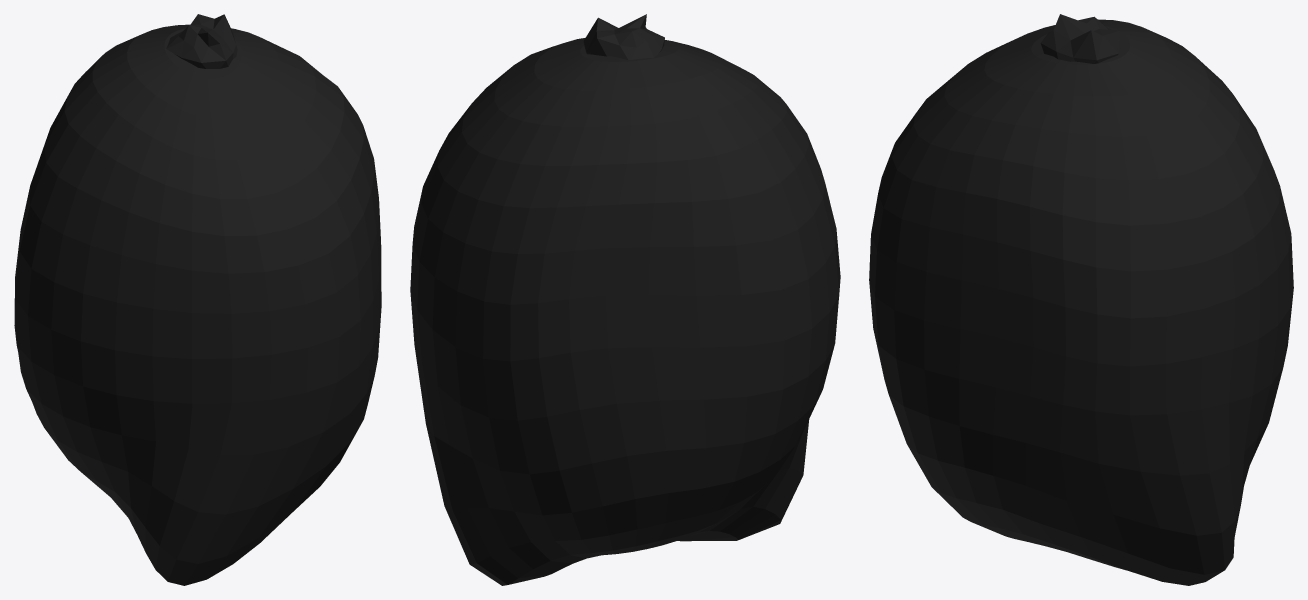
Rendered from Garbage.obj.
3 renders of one model, left to right at view 1: azimuth 30°, elevation 25°; view 2: azimuth 150°, elevation 25°; view 3: azimuth 270°, elevation 25°, orthographic. The views are drawn at different scales.
Parts seen in each view (by area): view 1: Icosphere; view 2: Icosphere; view 3: Icosphere.
Part boxes in pixels (bbox=[...]): Icosphere: bbox=[14, 14, 381, 585]; Icosphere: bbox=[410, 14, 840, 585]; Icosphere: bbox=[869, 14, 1293, 585].
Size of the model in its own units: 1.97 by 2.74 by 1.98.
